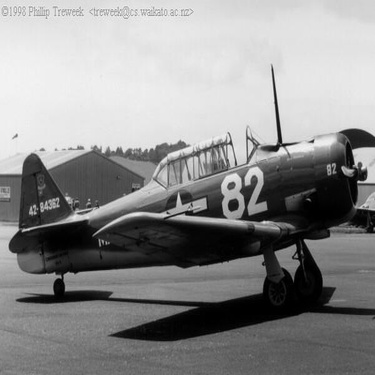airplane: (5, 58, 374, 323)
